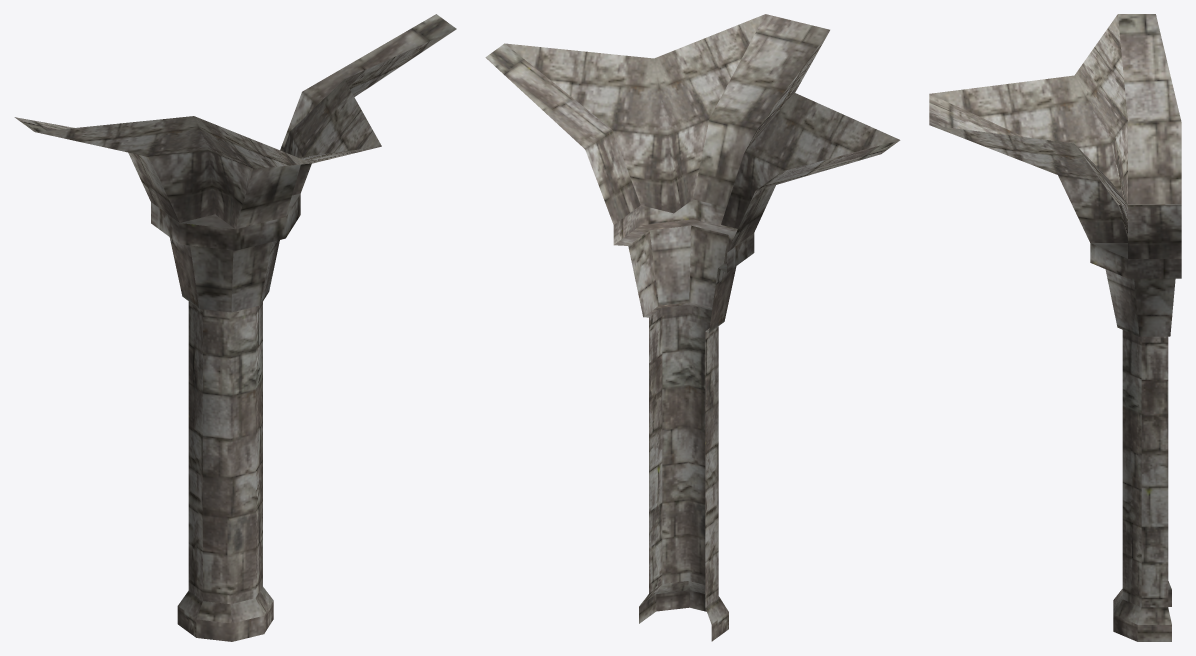
The model's file is ornate_pillar_side.glb.
3 views of the same model, side by side, from view 1: azimuth 30°, elevation 25°; view 2: azimuth 150°, elevation 25°; view 3: azimuth 270°, elevation 25° (orthographic). The views are drawn at different scales.
Parts seen in each view (by area): view 1: ornate_pillar_side; view 2: ornate_pillar_side; view 3: ornate_pillar_side.
Boxes of the visible parts, x1=… form: ornate_pillar_side: x1=14, y1=14, x2=456, y2=641; ornate_pillar_side: x1=485, y1=14, x2=900, y2=641; ornate_pillar_side: x1=929, y1=14, x2=1181, y2=641.
Size of the model in its own units: 7.4 by 9.3 by 4.13.
1 material, 1 textured.
